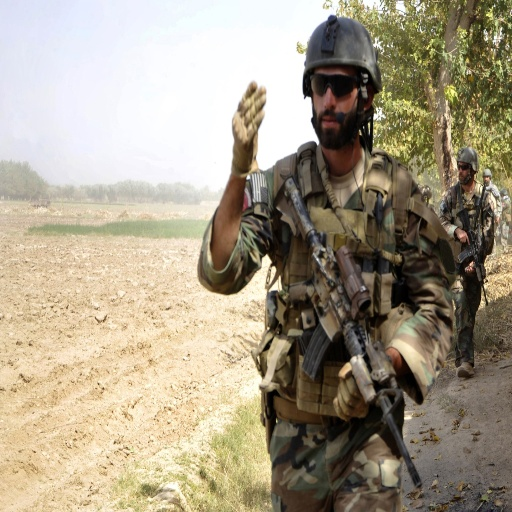hand: (226, 77, 268, 163), (331, 360, 369, 423), (455, 226, 470, 245), (465, 259, 476, 274), (494, 214, 499, 225), (500, 200, 505, 207)
